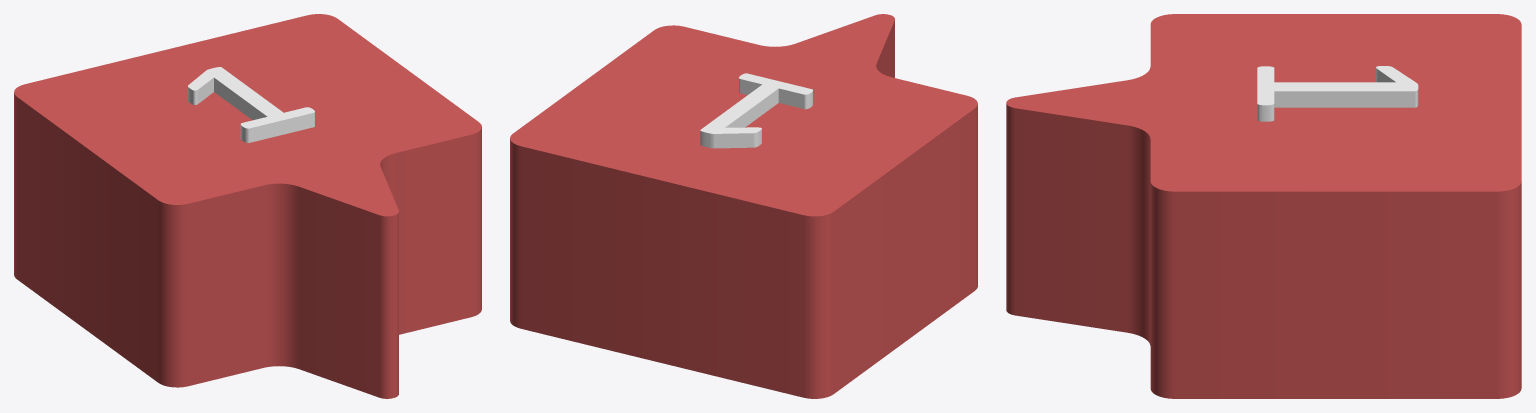
File: bulb.glb
3 views of the same model, side by side, from view 1: azimuth 30°, elevation 25°; view 2: azimuth 150°, elevation 25°; view 3: azimuth 270°, elevation 25° (orthographic). The views are drawn at different scales.
Visible parts, largest first — view 1: Line001, TextPlus001; view 2: Line001, TextPlus001; view 3: Line001, TextPlus001.
Boxes of the visible parts, left/top/right/bottom form: Line001: left=14, top=14, right=481, bottom=398; TextPlus001: left=188, top=67, right=314, bottom=142; Line001: left=510, top=14, right=977, bottom=398; TextPlus001: left=700, top=73, right=812, bottom=148; Line001: left=1006, top=14, right=1521, bottom=398; TextPlus001: left=1257, top=66, right=1418, bottom=121.
Bounding box in the file's own units: 0.34 × 0.1997 × 0.4165.
